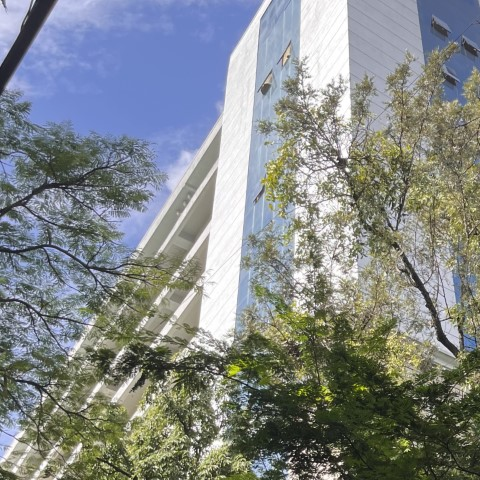Central Block: (109, 5, 476, 401)
